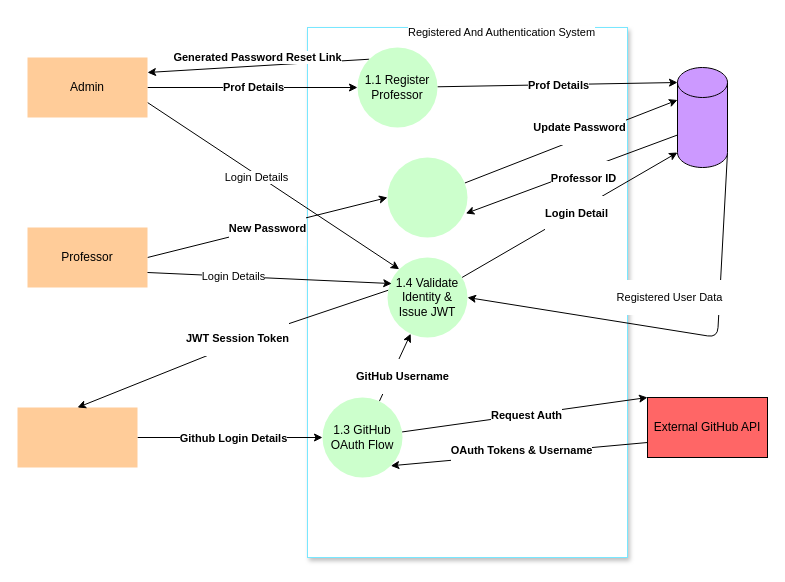
Some shapes in this 785 by 582 pixel diagram are drawn without their labels. Here are the shapes that lost their labels. From the top down, the centre of each, then its label:
the point at 702,117: D1 Users
the point at 427,197: 1.2 Force Password Reset
the point at 77,437: Student
